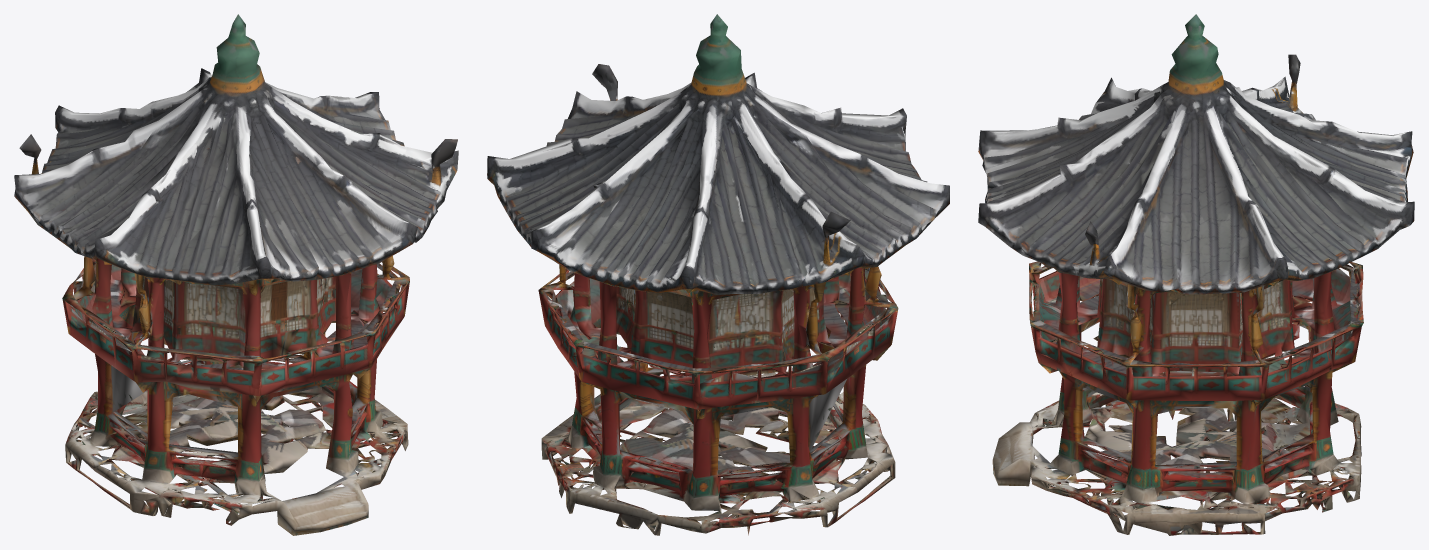
Rendered from PR_Hyangwonjeong.fbx.
3 views of the same model, side by side, from view 1: azimuth 30°, elevation 25°; view 2: azimuth 150°, elevation 25°; view 3: azimuth 270°, elevation 25° (orthographic). The views are drawn at different scales.
Parts seen in each view (by area): view 1: texture_mapping; view 2: texture_mapping; view 3: texture_mapping.
Part boxes in pixels (<box>): texture_mapping: <box>14,14,458,535</box>; texture_mapping: <box>487,14,949,535</box>; texture_mapping: <box>978,14,1414,535</box>.
Size of the model in its own units: 0.8477 by 0.8518 by 0.979.
Materials: 1 (1 with a texture image).
